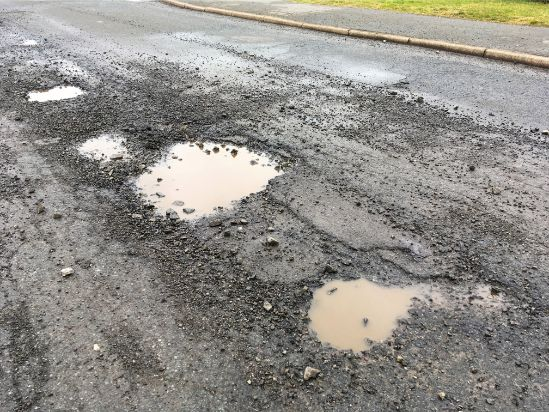pothole: (291, 262, 457, 358), (127, 137, 300, 224), (68, 121, 133, 170), (17, 79, 90, 102)
